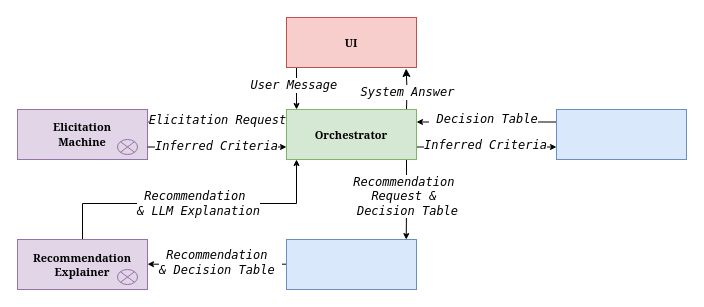
This 704x307 diagram has some shape labels left out. The shapes that lost their labels are listed below. From the top down, each one's centre as x and y in pixels, then its label:
point 621,134: Explicit Decision Model
point 351,264: Decision Maker
